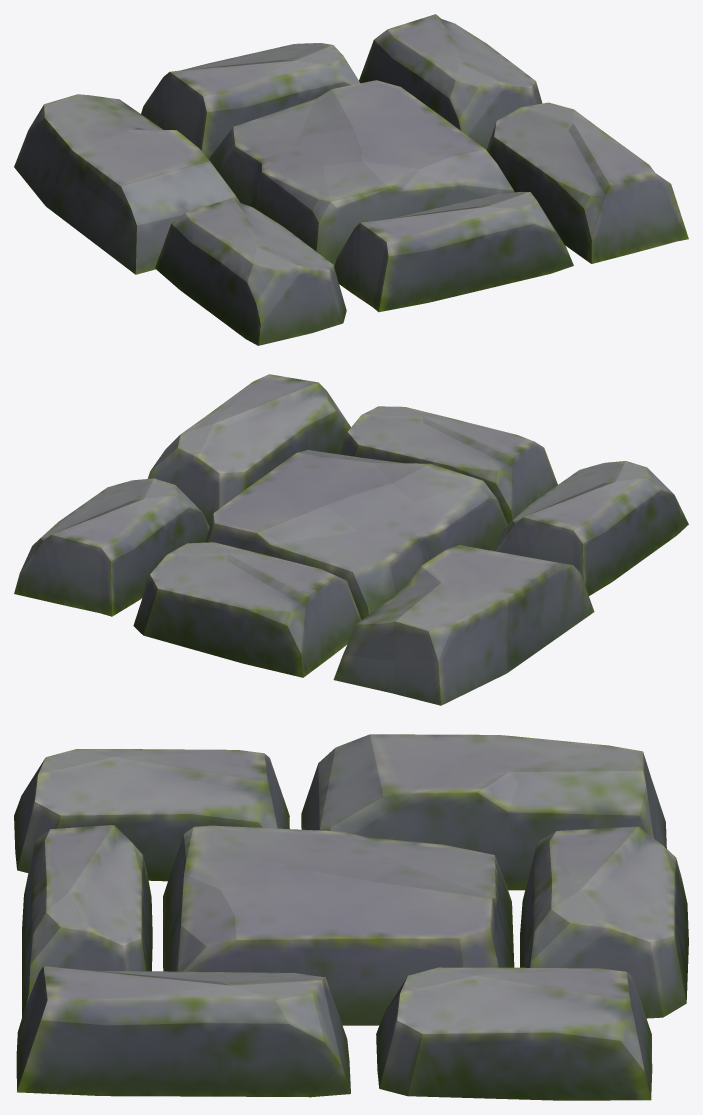
File: RockPath_Square_Small_2.glb
3 renders of one model, top to bottom at view 1: azimuth 30°, elevation 25°; view 2: azimuth 150°, elevation 25°; view 3: azimuth 270°, elevation 25°, orthographic. The views are drawn at different scales.
Visible parts, largest first — view 1: RockPath_Square_Small_2; view 2: RockPath_Square_Small_2; view 3: RockPath_Square_Small_2.
Part boxes in pixels (x1,y1,x2,y2): RockPath_Square_Small_2: (14,14,688,345); RockPath_Square_Small_2: (14,374,688,705); RockPath_Square_Small_2: (14,734,688,1100).
Bounding box in the file's own units: 0.9927 × 0.1493 × 0.9661.
Materials: 1 (1 with a texture image).
